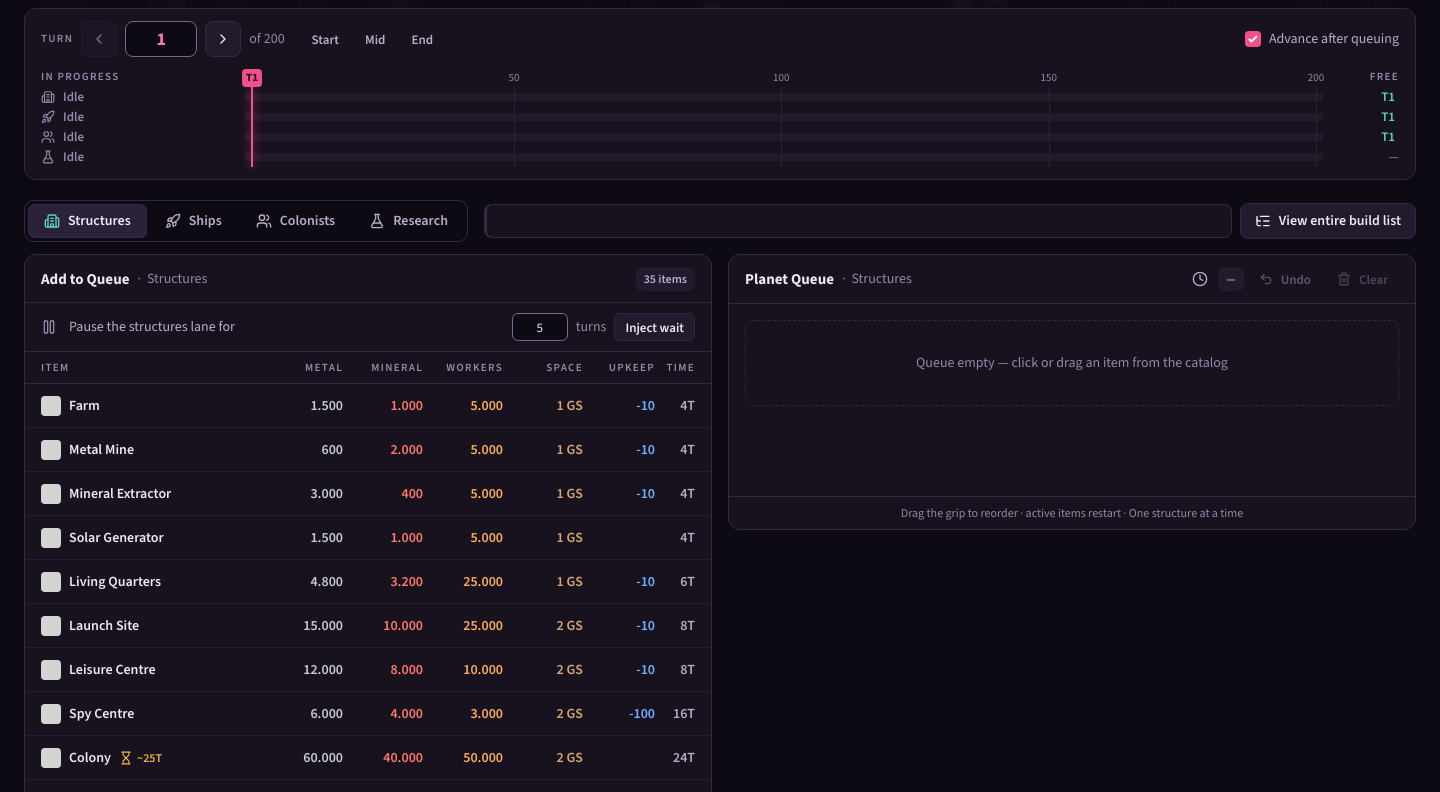
entire build list overview › opens from the button next to the alert slot and shows every lane by turn
(page scrolled)
Click the button "Farm" at (84, 406), box 69,396 -> 100,416
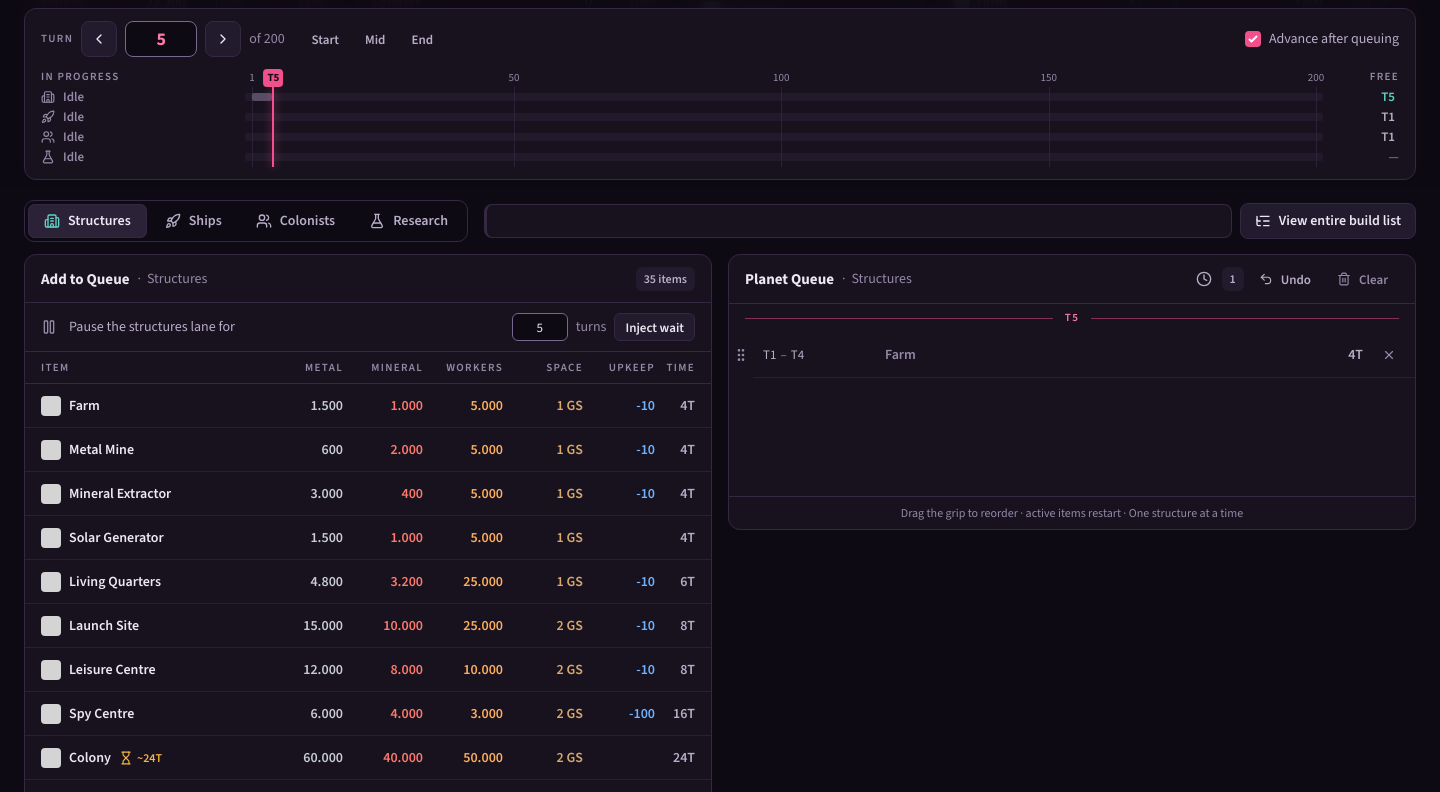
Click the button "Solar Generator" at (116, 538), box 69,528 -> 164,548
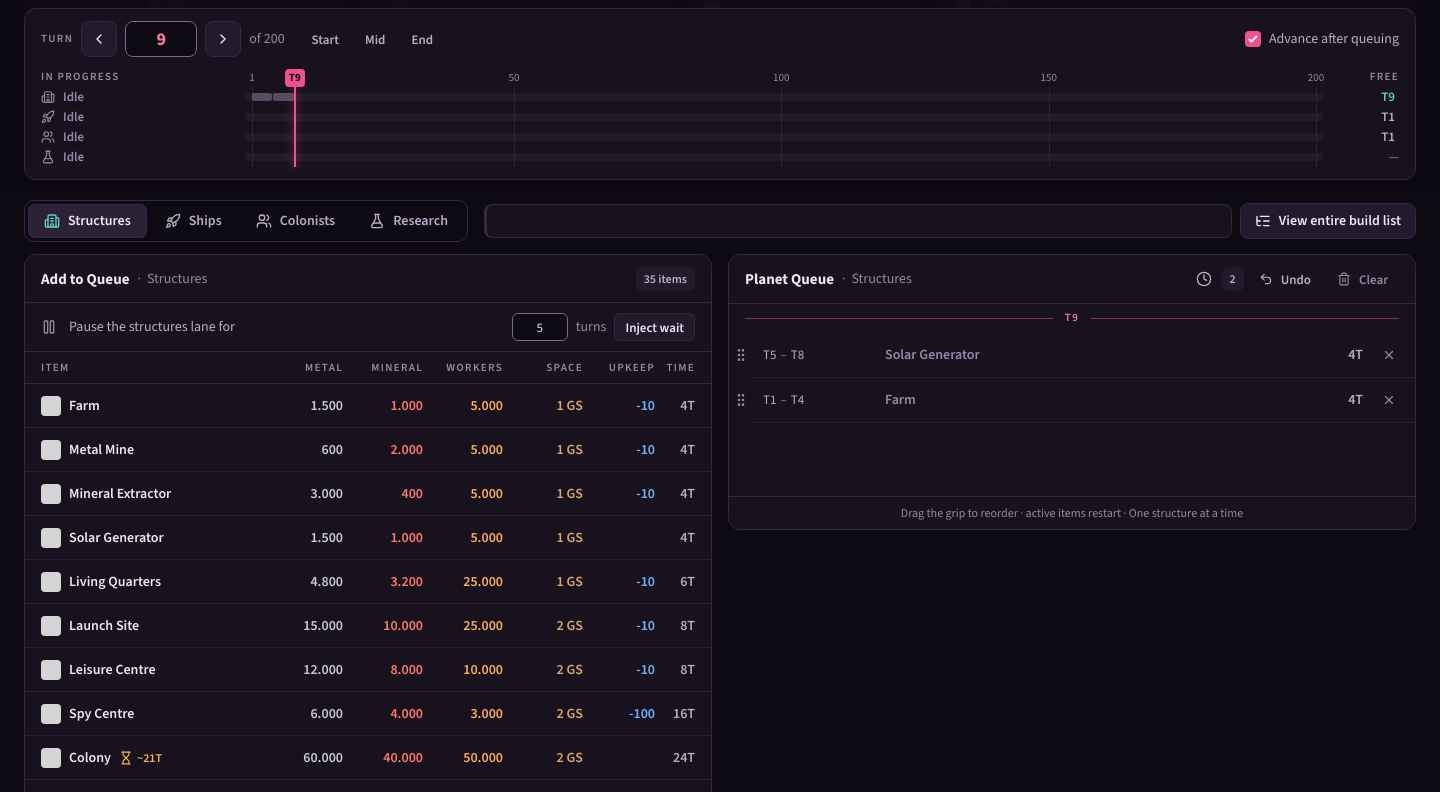
Click the button "View entire build list" at (1328, 221), box 1240,203 -> 1416,239
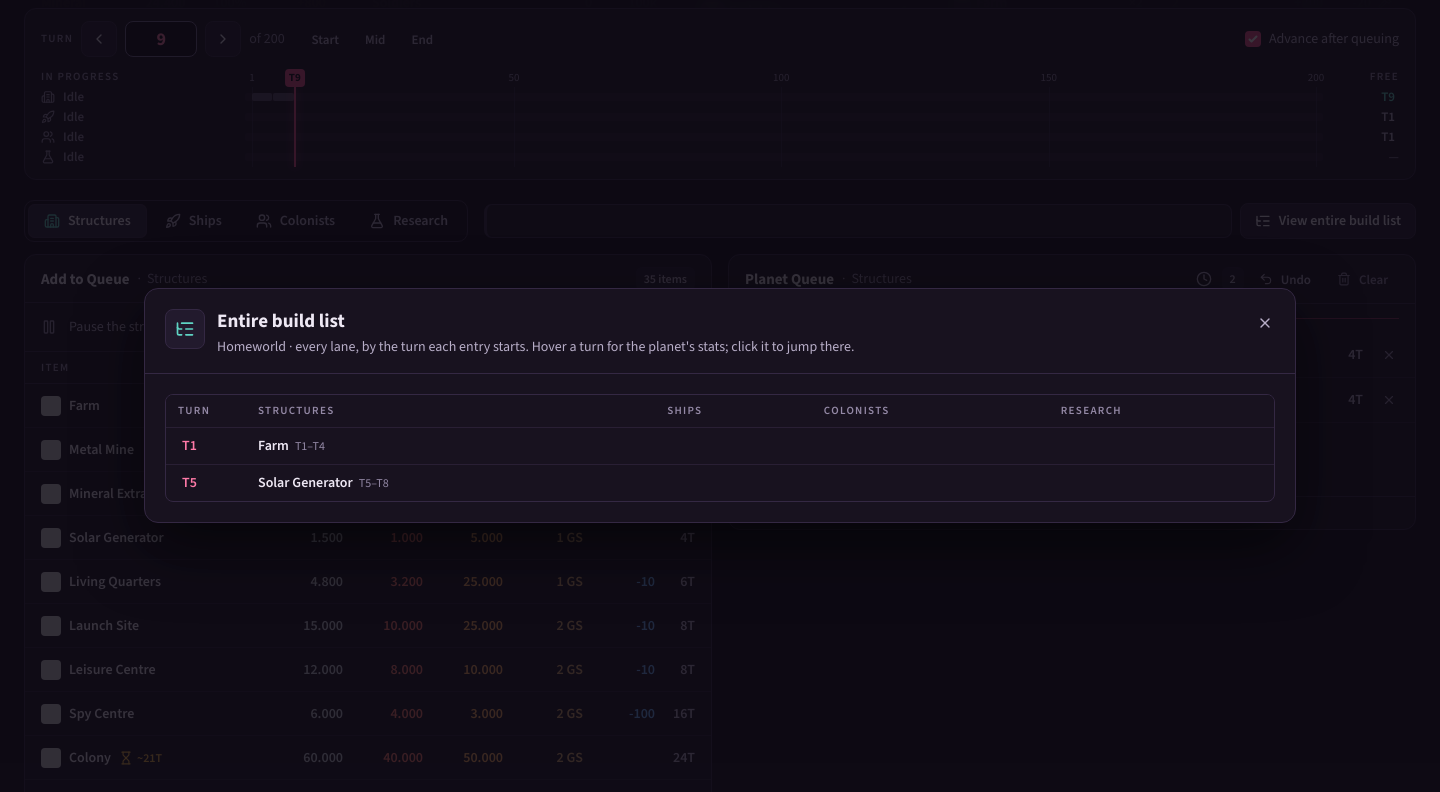
Expected: the 2nd row shows "Farm", 258,436 -> 289,454
Expected: the 3rd row shows "Solar Generator", 258,472 -> 353,492
Hover over the button "T5" at (189, 482), box 178,472 -> 201,492
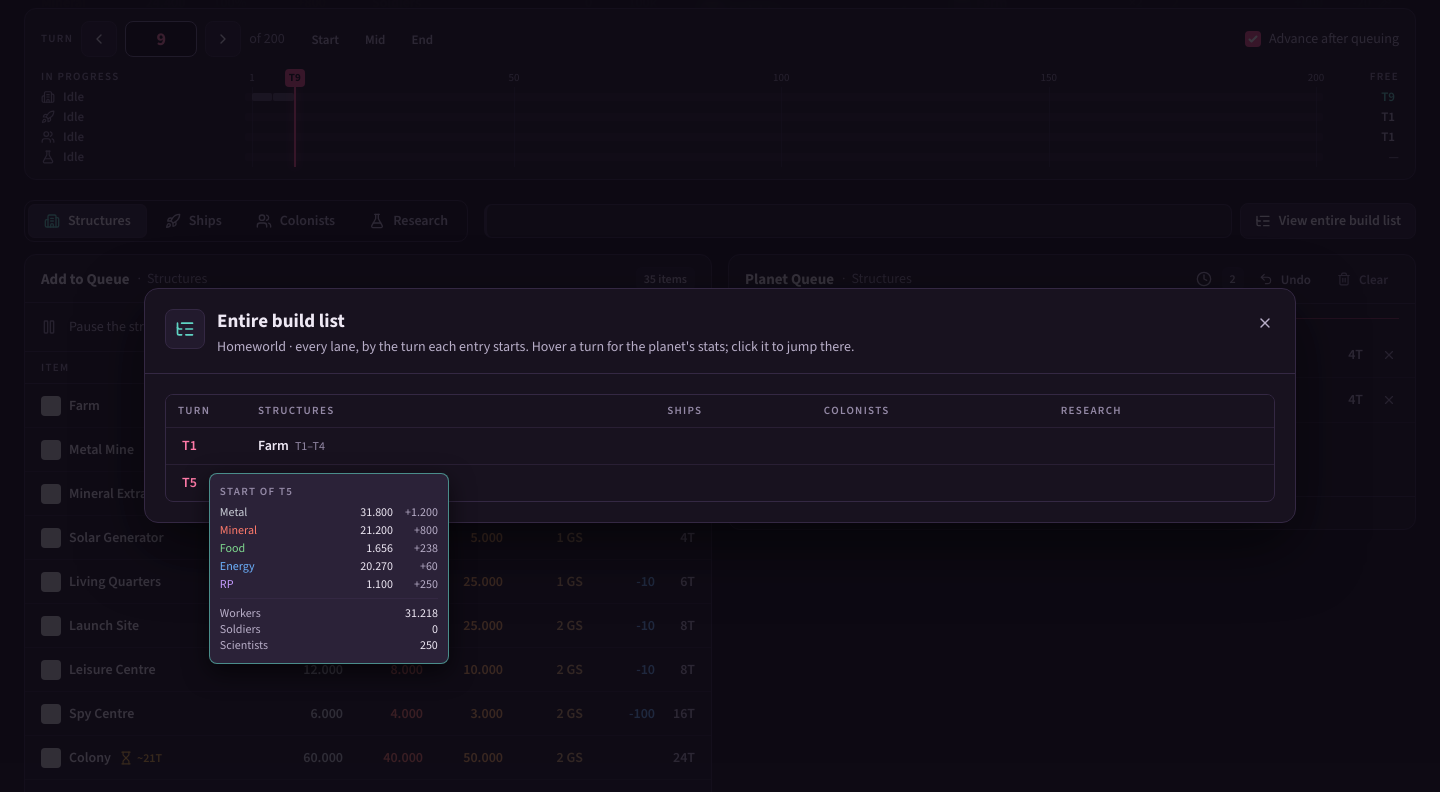
Expected: the tooltip shows "Scientists", 220,636 -> 268,652
